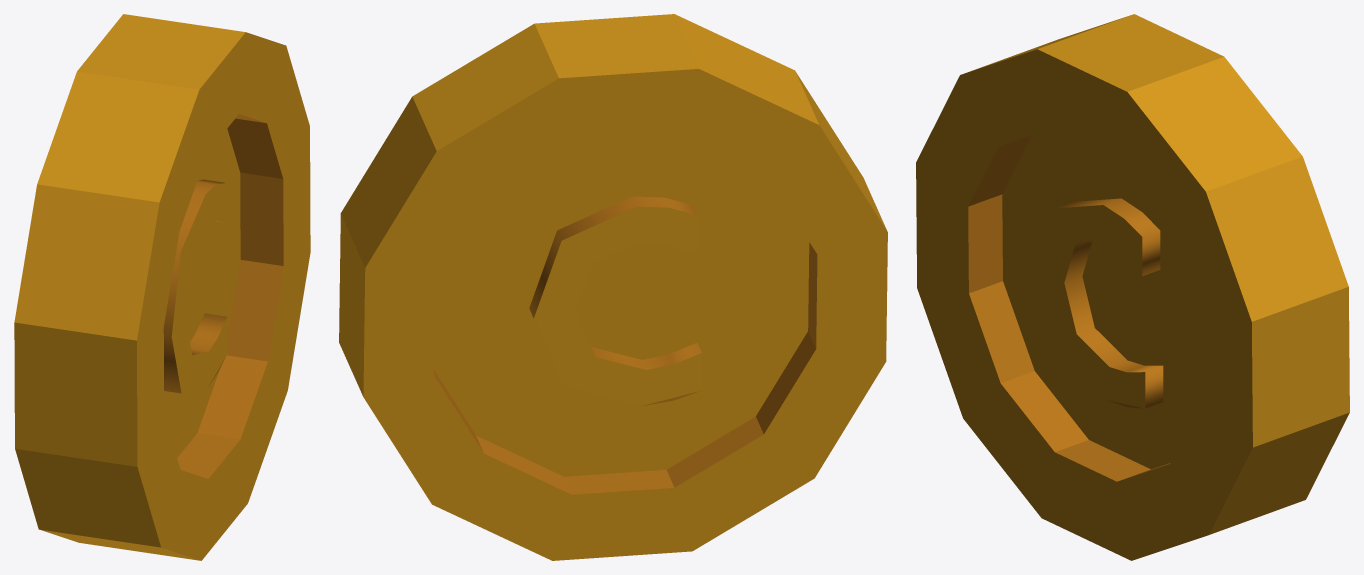
Rendered from coin@spin.fbx.
3 renders of one model, left to right at view 1: azimuth 30°, elevation 25°; view 2: azimuth 150°, elevation 25°; view 3: azimuth 270°, elevation 25°, orthographic. The views are drawn at different scales.
Visible parts, largest first — view 1: Text; view 2: Text; view 3: Text.
Boxes of the visible parts, bbox=[...] form: Text: bbox=[14, 14, 310, 560]; Text: bbox=[339, 14, 887, 560]; Text: bbox=[916, 14, 1349, 560].
Bounding box in the file's own units: 56.78 × 61.73 × 51.82.
